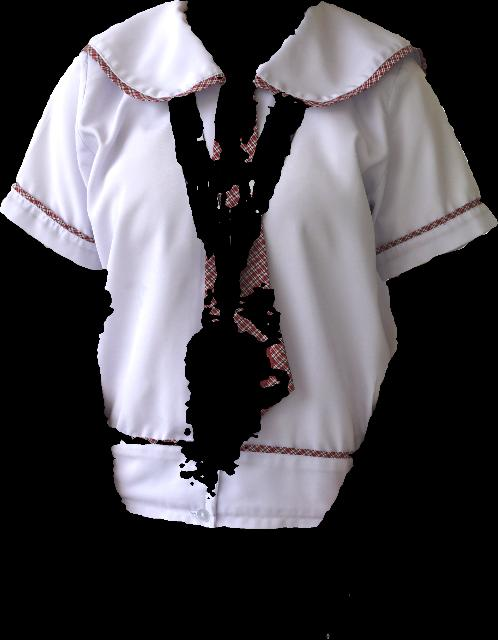pologirl: (1, 0, 497, 529)
